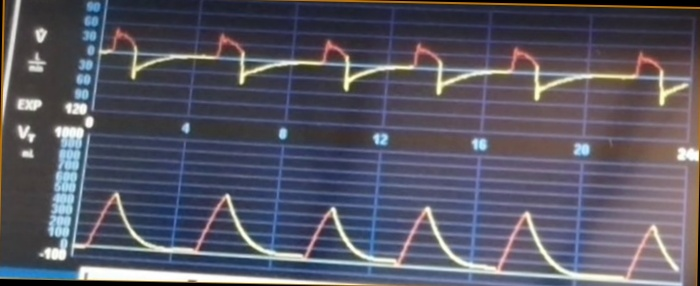Normal Flow: (103, 23, 686, 116)
Normal Volume: (81, 188, 679, 281)
